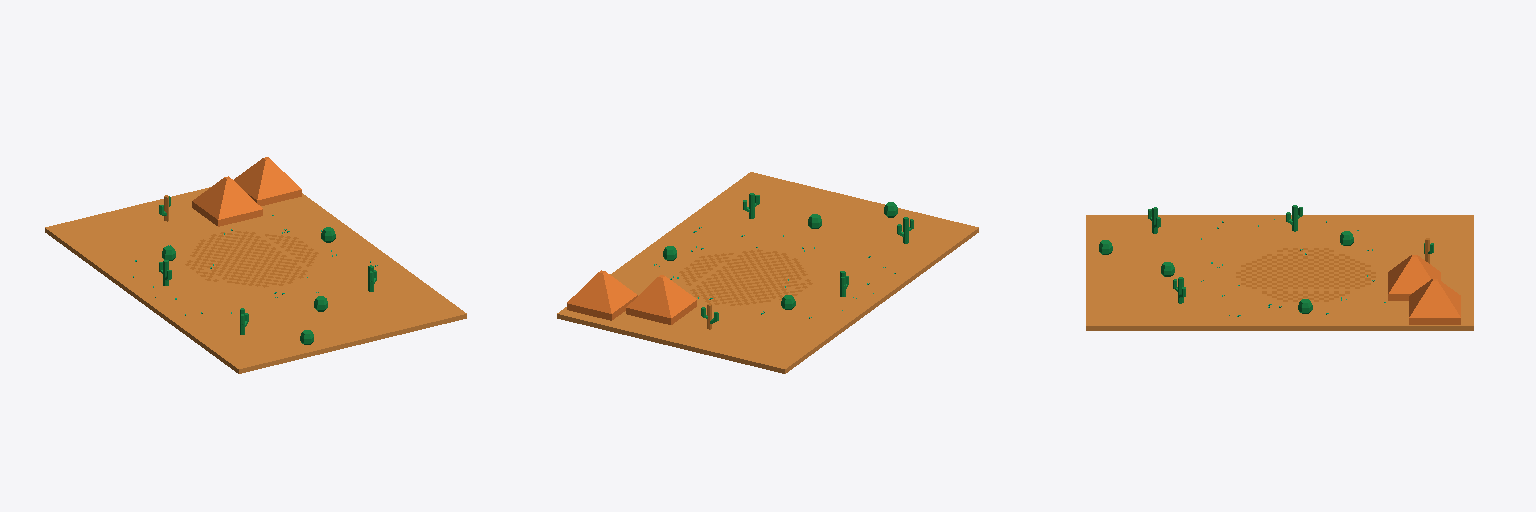
Rendered from sands2.obj.
3 renders of one model, left to right at view 1: azimuth 30°, elevation 25°; view 2: azimuth 150°, elevation 25°; view 3: azimuth 270°, elevation 25°, orthographic.
Parts seen in each view (by area): view 1: mergedBlocks; view 2: mergedBlocks; view 3: mergedBlocks.
Boxes of the visible parts, x1=… form: mergedBlocks: x1=45, y1=157, x2=466, y2=373; mergedBlocks: x1=557, y1=172, x2=978, y2=373; mergedBlocks: x1=1086, y1=205, x2=1473, y2=330.
Size of the model in its own units: 51 by 8.26 by 75.